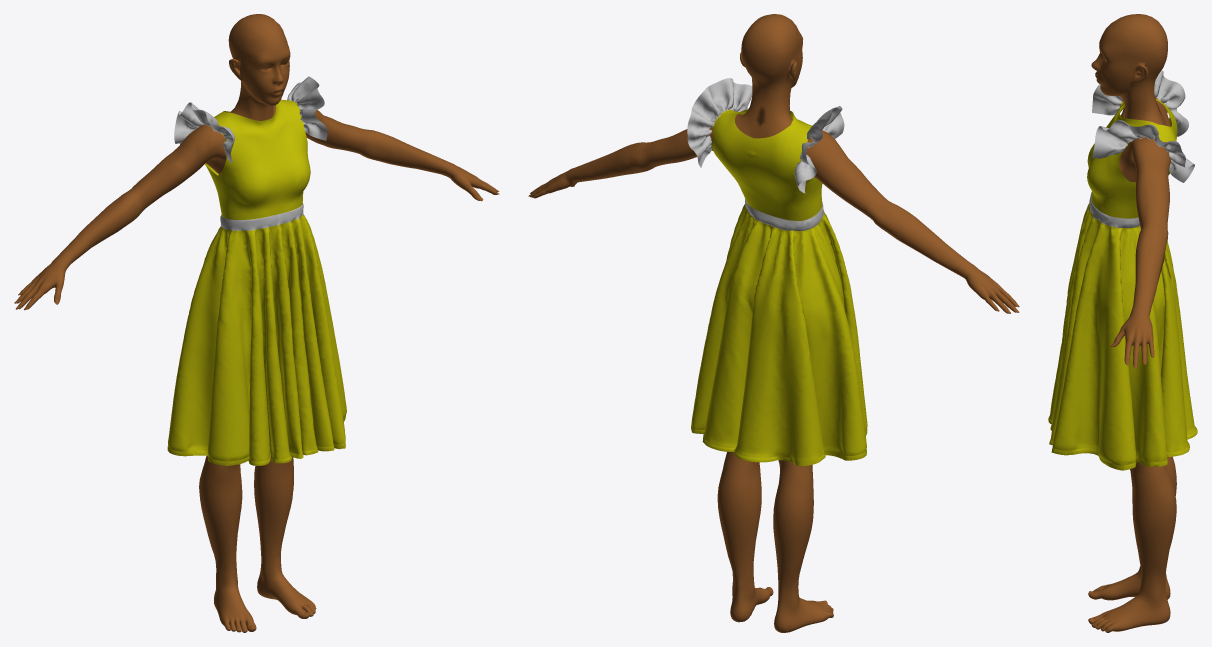
File: dress10.glb
3 views of the same model, side by side, from view 1: azimuth 30°, elevation 25°; view 2: azimuth 150°, elevation 25°; view 3: azimuth 270°, elevation 25° (orthographic).
Visible parts, largest first — view 1: PinkDrees#14 (OBJ), Body; view 2: PinkDrees#14 (OBJ), Body; view 3: PinkDrees#14 (OBJ), Body.
Boxes of the visible parts, x1,y1,x2,y2 form: PinkDrees#14 (OBJ): (167, 76, 346, 465); Body: (17, 14, 498, 632); PinkDrees#14 (OBJ): (687, 78, 867, 465); Body: (529, 14, 1016, 632); PinkDrees#14 (OBJ): (1048, 70, 1197, 470); Body: (1088, 14, 1176, 632).
Bounding box in the file's own units: 1.58 × 1.85 × 0.4187.
